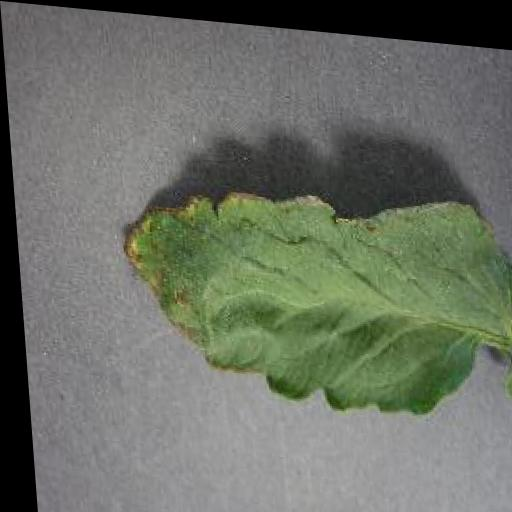Bacterial Spot: (111, 163, 512, 420)
